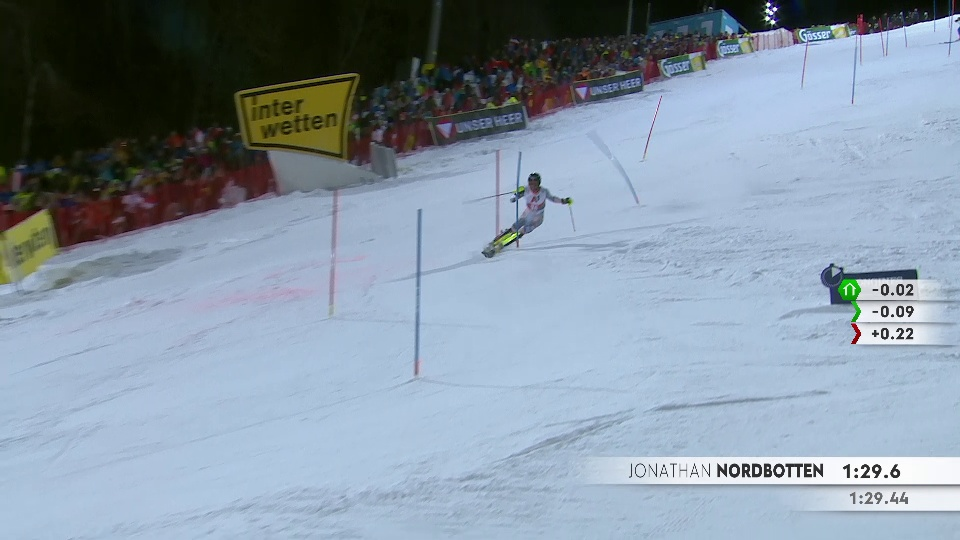goesser: (659, 57, 703, 78), (800, 27, 841, 44), (718, 42, 749, 58)
interwetten: (242, 84, 350, 155)
unserheer: (437, 108, 525, 136), (570, 72, 642, 96)
